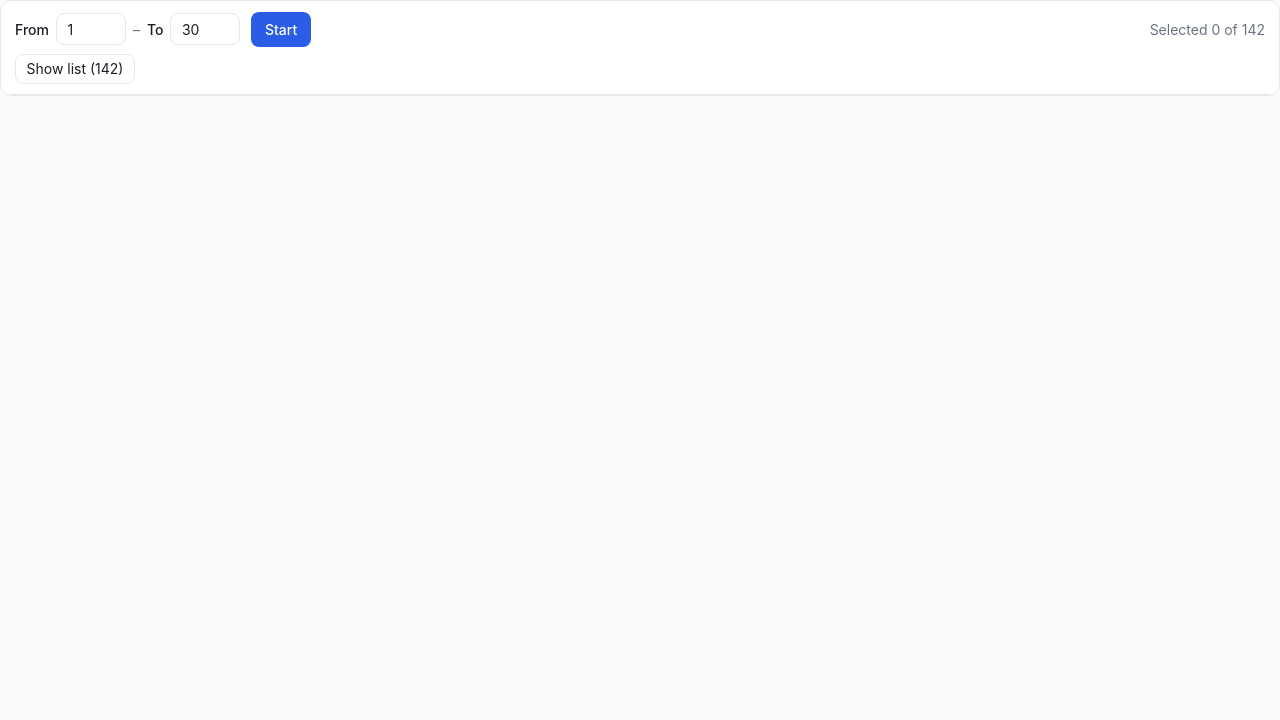
Test: ChapterList 1.4 - selection helpers › type 50 without blur + Start fetches typed range (no stale props)
Click the button with test id "chapter-list-toggle".
click(75, 68)  # box [15,54,135,84]
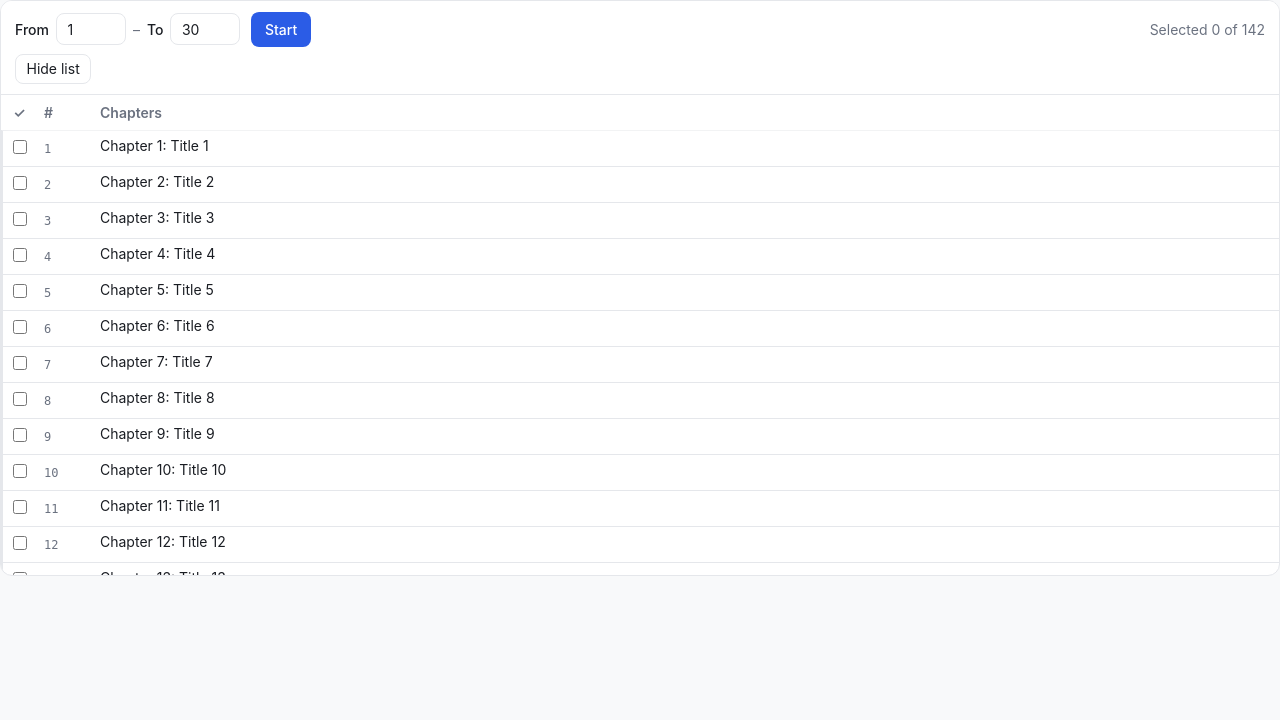
Replace the text in the field with test id "range-from" with "50" at (91, 29), box [56,13,126,45]
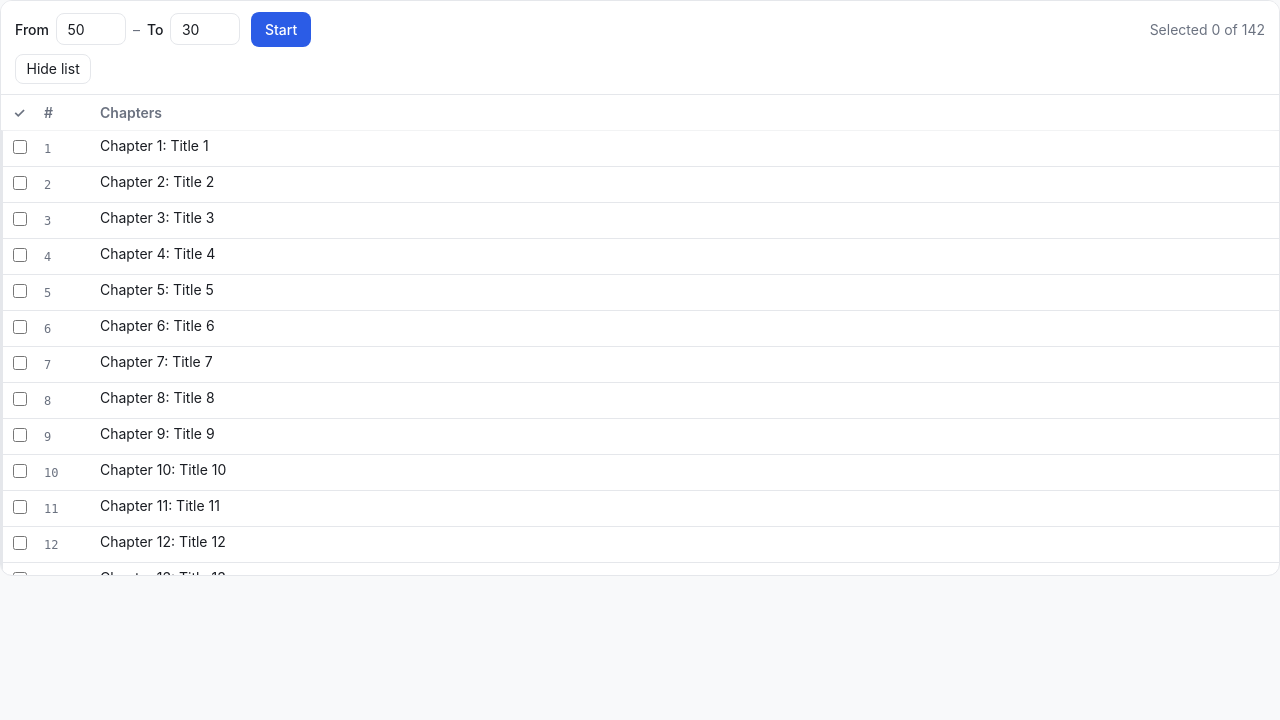
Click the button with test id "range-start".
click(281, 29)  # box [251,12,311,46]
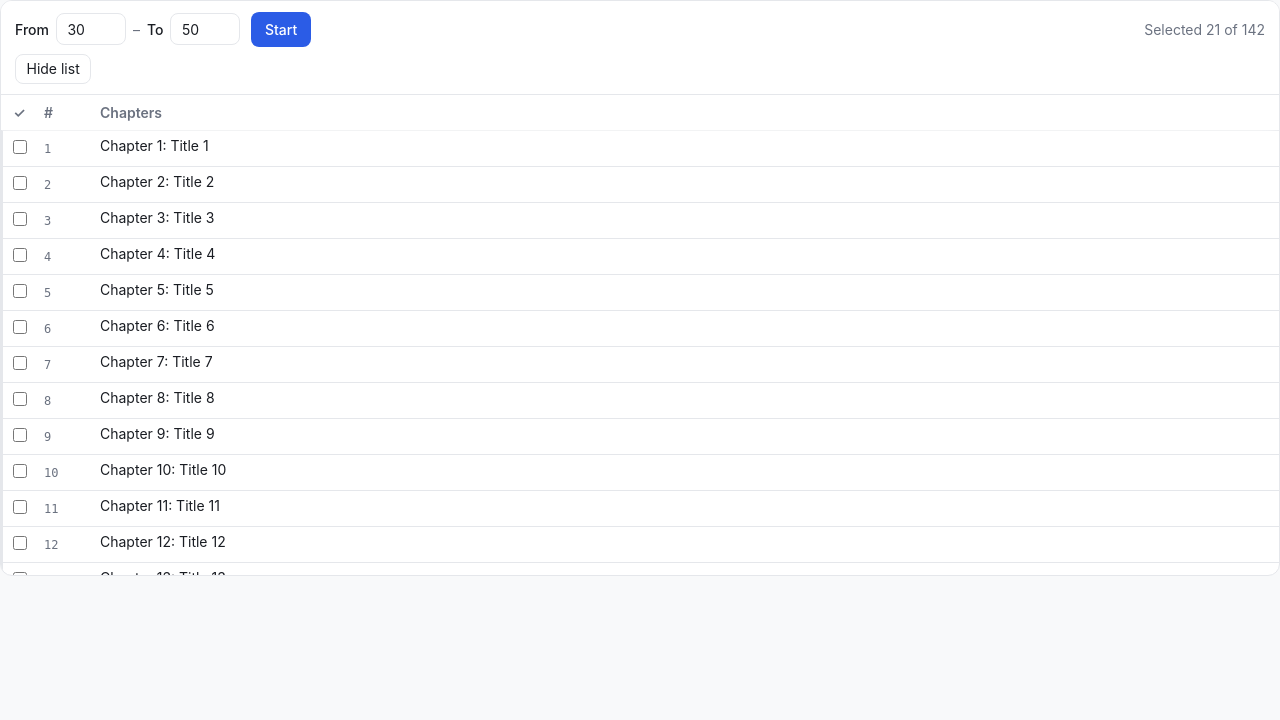
Result: the text with test id "selected-label" shows "21" at [1144,20,1265,38]
